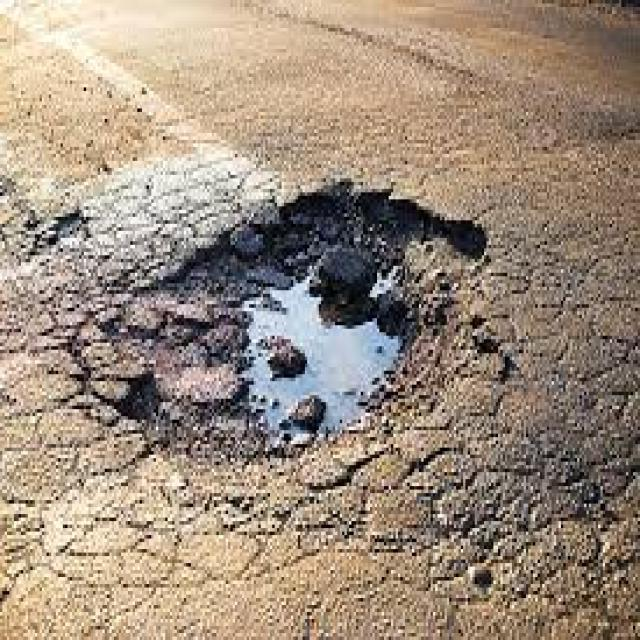Pothole: (76, 178, 532, 493)
